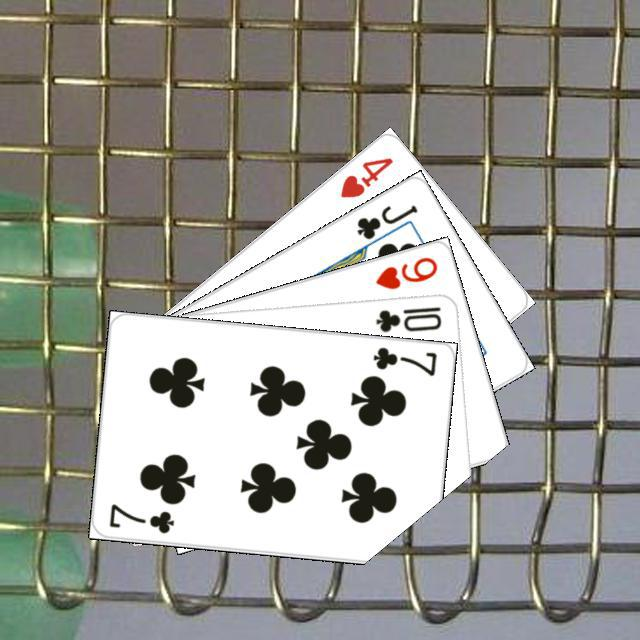10c: (371, 301, 443, 334)
4h: (335, 152, 395, 200)
7c: (104, 499, 176, 535), (368, 342, 439, 378)
9h: (370, 252, 439, 291)
Jc: (351, 199, 420, 242)
